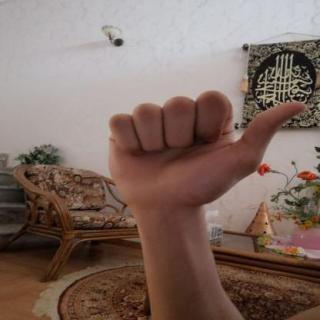DAD: (94, 84, 314, 221)
